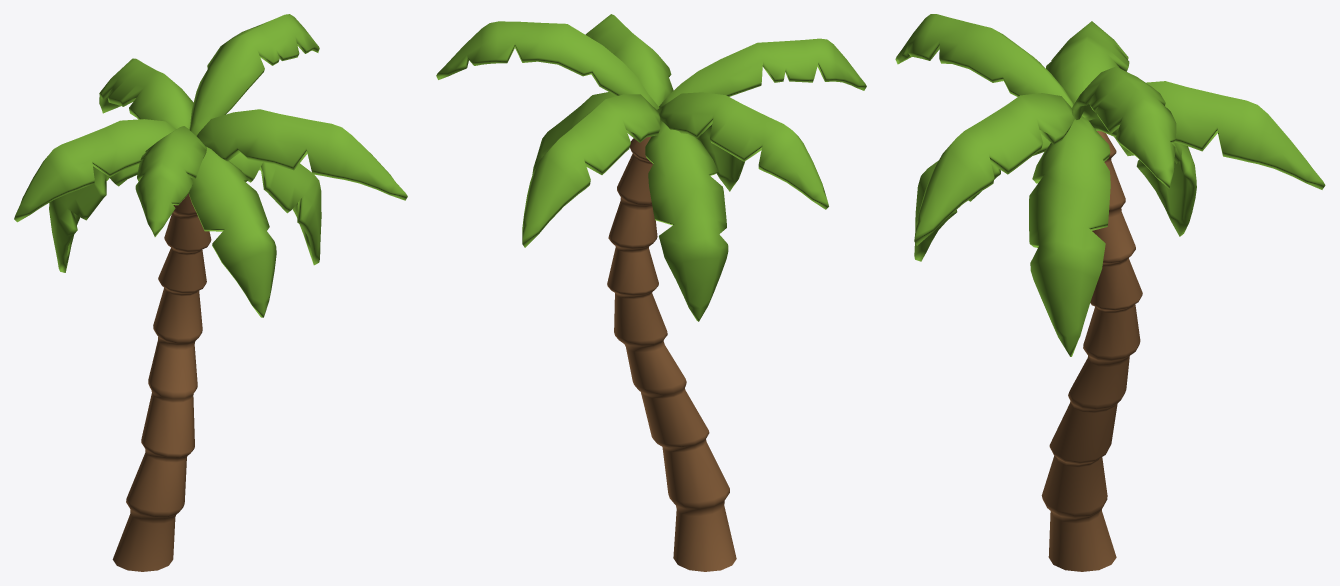
The model's file is palm.glb.
The picture shows the model from 3 angles, left to right: view 1: azimuth 30°, elevation 25°; view 2: azimuth 150°, elevation 25°; view 3: azimuth 270°, elevation 25°; orthographic projection. The views are drawn at different scales.
Parts seen in each view (by area): view 1: Environment_PalmTree_1 baked; view 2: Environment_PalmTree_1 baked; view 3: Environment_PalmTree_1 baked.
Part boxes in pixels (x1,y1,x2,y2): Environment_PalmTree_1 baked: (14, 14, 407, 571); Environment_PalmTree_1 baked: (436, 14, 866, 571); Environment_PalmTree_1 baked: (895, 14, 1325, 571).
Bounding box in the file's own units: 6.55 × 9 × 6.32.
1 material, 1 textured.
